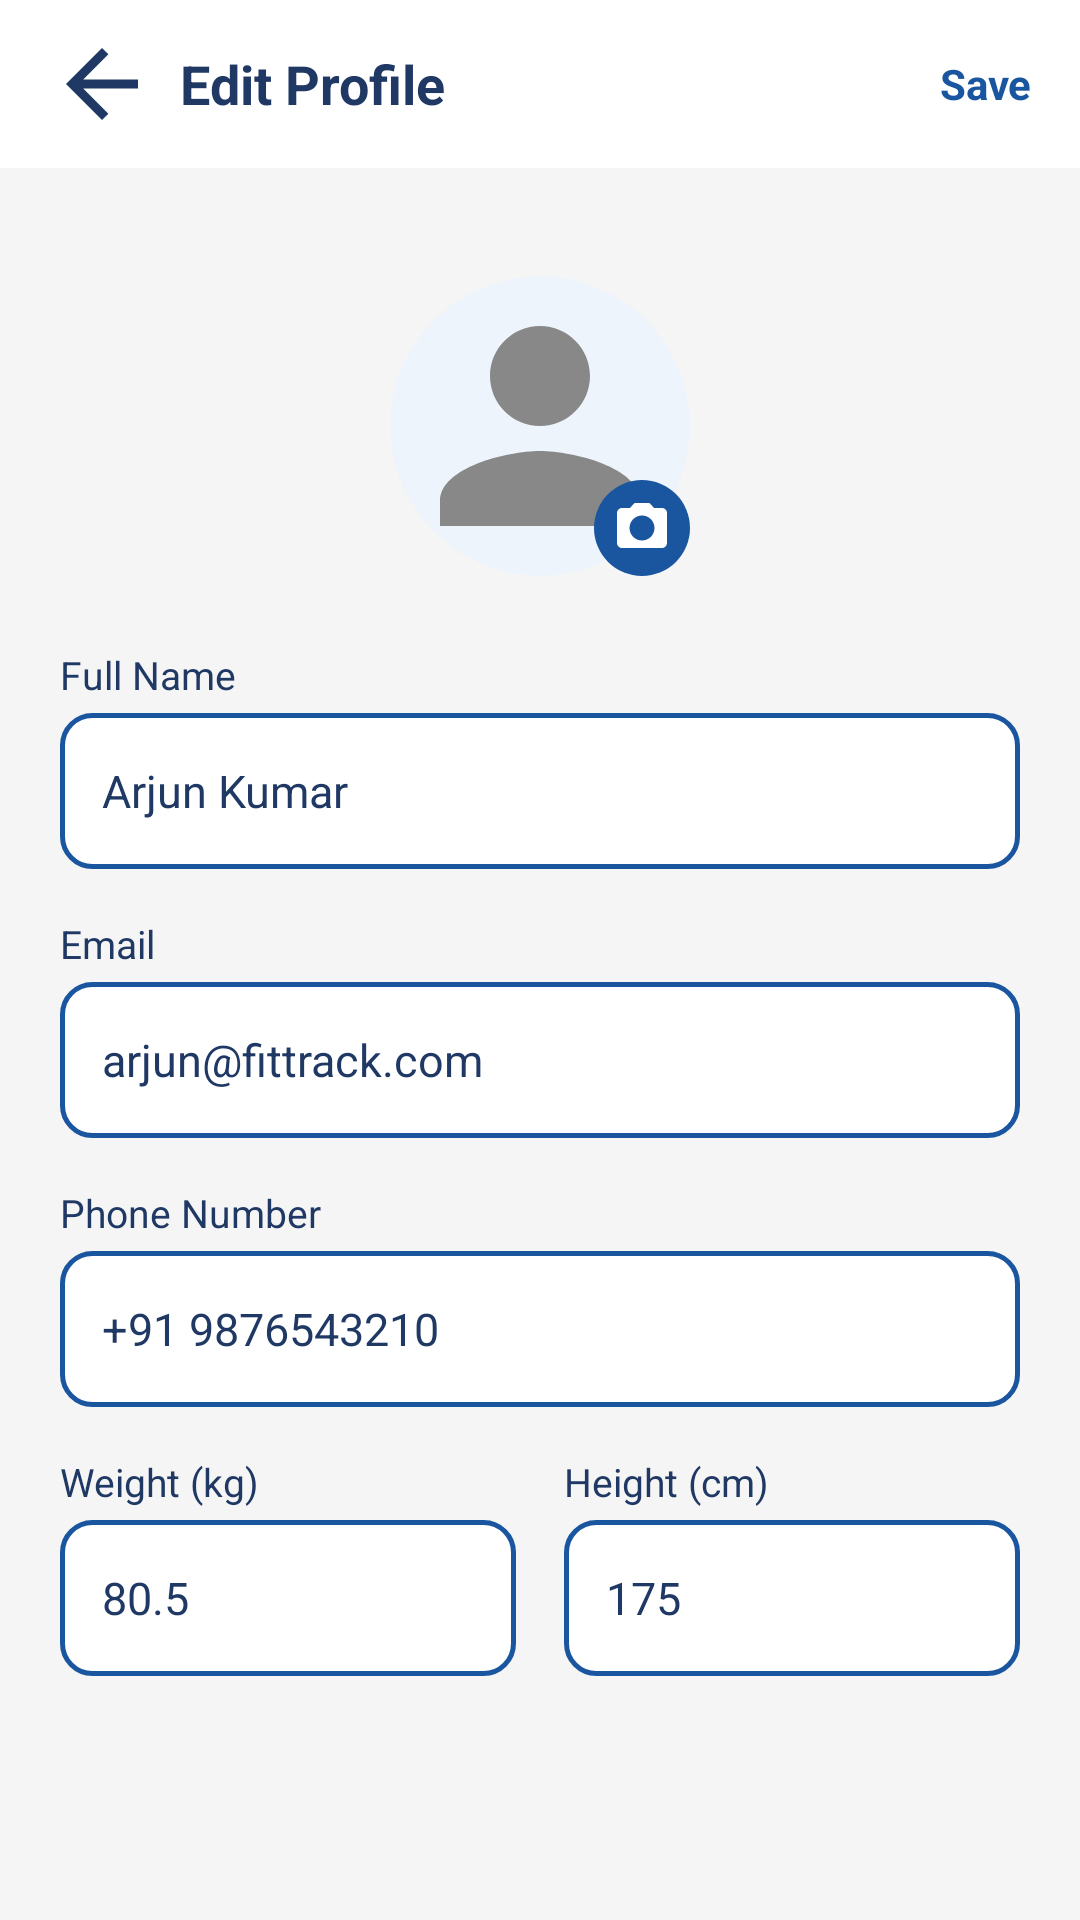

Where icons sit on this 1080×1920 app screen, as (x1,y1,x2,y2):
back arrow: (66,48,138,120)
